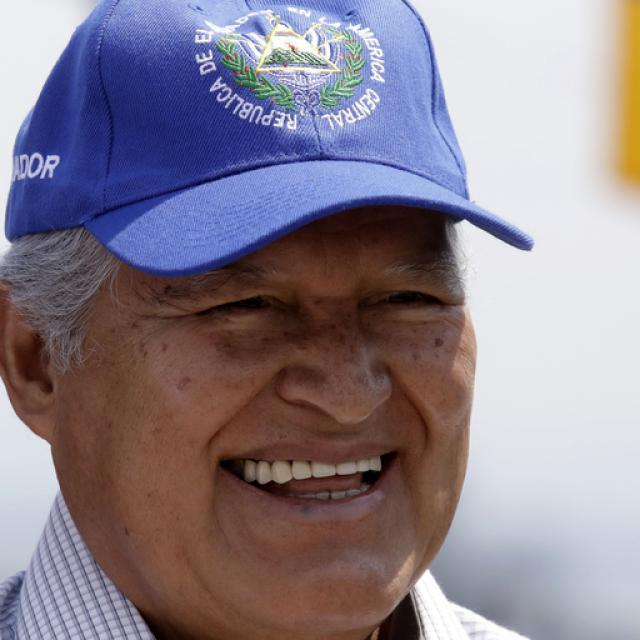Pigmentation: (269, 284, 392, 411), (127, 318, 174, 361), (158, 366, 197, 404)
